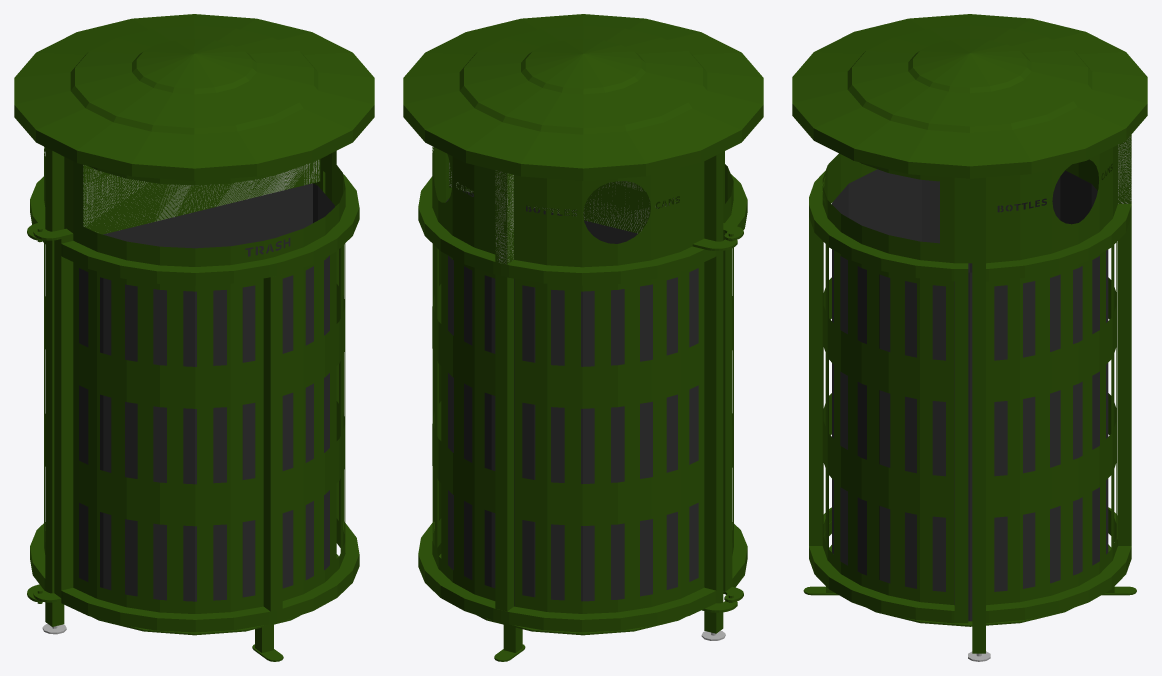
The picture shows the model from 3 angles, left to right: view 1: azimuth 30°, elevation 25°; view 2: azimuth 150°, elevation 25°; view 3: azimuth 270°, elevation 25°; orthographic projection.
Visible parts, largest first — view 1: mesh19.001_mesh19-geometry, mesh18.001_mesh18-geometry, mesh23.005_mesh23-geometry, mesh23.001_mesh23-geometry, mesh23.006_mesh23-geometry, mesh16.001_mesh16-geometry, mesh49_mesh49-geometry, mesh38.001_mesh38-geometry, mesh12.002_mesh12-geometry, mesh1.004_mesh1-geometry, mesh21.001_mesh21-geometry, mesh46.001_mesh46-geometry (+10 smaller); view 2: mesh19.001_mesh19-geometry, mesh18.001_mesh18-geometry, mesh21.002_mesh21-geometry, mesh21.006_mesh21-geometry, mesh21.004_mesh21-geometry, mesh14.001_mesh14-geometry, mesh46.001_mesh46-geometry, mesh1.002_mesh1-geometry, mesh12.001_mesh12-geometry, mesh23.003_mesh23-geometry, mesh3.003_mesh3-geometry, mesh23.002_mesh23-geometry (+11 smaller); view 3: mesh19.001_mesh19-geometry, mesh18.001_mesh18-geometry, mesh21.001_mesh21-geometry, mesh23.003_mesh23-geometry, mesh21.003_mesh21-geometry, mesh23.002_mesh23-geometry, mesh21.005_mesh21-geometry, mesh23.004_mesh23-geometry, mesh15.001_mesh15-geometry, mesh36.001_mesh36-geometry, mesh16.001_mesh16-geometry, mesh40.001_mesh40-geometry (+12 smaller).
Part boxes in pixels (bbox=[...]): mesh19.001_mesh19-geometry: bbox=[14, 14, 374, 180]; mesh18.001_mesh18-geometry: bbox=[79, 183, 334, 601]; mesh23.005_mesh23-geometry: bbox=[73, 362, 263, 505]; mesh23.001_mesh23-geometry: bbox=[73, 479, 263, 613]; mesh23.006_mesh23-geometry: bbox=[73, 262, 263, 387]; mesh16.001_mesh16-geometry: bbox=[64, 151, 345, 266]; mesh49_mesh49-geometry: bbox=[83, 159, 320, 234]; mesh38.001_mesh38-geometry: bbox=[54, 236, 73, 597]; mesh12.002_mesh12-geometry: bbox=[263, 274, 282, 611]; mesh1.004_mesh1-geometry: bbox=[61, 530, 359, 632]; mesh21.001_mesh21-geometry: bbox=[282, 305, 345, 492]; mesh46.001_mesh46-geometry: bbox=[45, 147, 64, 626]; mesh19.001_mesh19-geometry: bbox=[403, 14, 763, 180]; mesh18.001_mesh18-geometry: bbox=[446, 191, 698, 606]; mesh21.002_mesh21-geometry: bbox=[514, 362, 704, 505]; mesh21.006_mesh21-geometry: bbox=[514, 479, 704, 613]; mesh21.004_mesh21-geometry: bbox=[514, 262, 704, 387]; mesh14.001_mesh14-geometry: bbox=[514, 161, 704, 267]; mesh46.001_mesh46-geometry: bbox=[704, 152, 723, 633]; mesh1.002_mesh1-geometry: bbox=[418, 522, 716, 632]; mesh12.001_mesh12-geometry: bbox=[495, 274, 513, 611]; mesh23.003_mesh23-geometry: bbox=[432, 305, 495, 492]; mesh3.003_mesh3-geometry: bbox=[418, 176, 716, 285]; mesh23.002_mesh23-geometry: bbox=[432, 422, 495, 600]; mesh19.001_mesh19-geometry: bbox=[792, 14, 1147, 178]; mesh18.001_mesh18-geometry: bbox=[832, 169, 1108, 621]; mesh21.001_mesh21-geometry: bbox=[822, 324, 954, 497]; mesh23.003_mesh23-geometry: bbox=[986, 323, 1117, 497]; mesh21.003_mesh21-geometry: bbox=[822, 439, 954, 604]; mesh23.002_mesh23-geometry: bbox=[986, 439, 1117, 605]; mesh21.005_mesh21-geometry: bbox=[822, 241, 954, 382]; mesh23.004_mesh23-geometry: bbox=[986, 241, 1117, 382]; mesh15.001_mesh15-geometry: bbox=[986, 145, 1117, 263]; mesh36.001_mesh36-geometry: bbox=[972, 177, 985, 653]; mesh16.001_mesh16-geometry: bbox=[822, 153, 972, 263]; mesh40.001_mesh40-geometry: bbox=[954, 263, 968, 623].
Size of the model in its own units: 0.4621 by 0.7611 by 0.4551.
